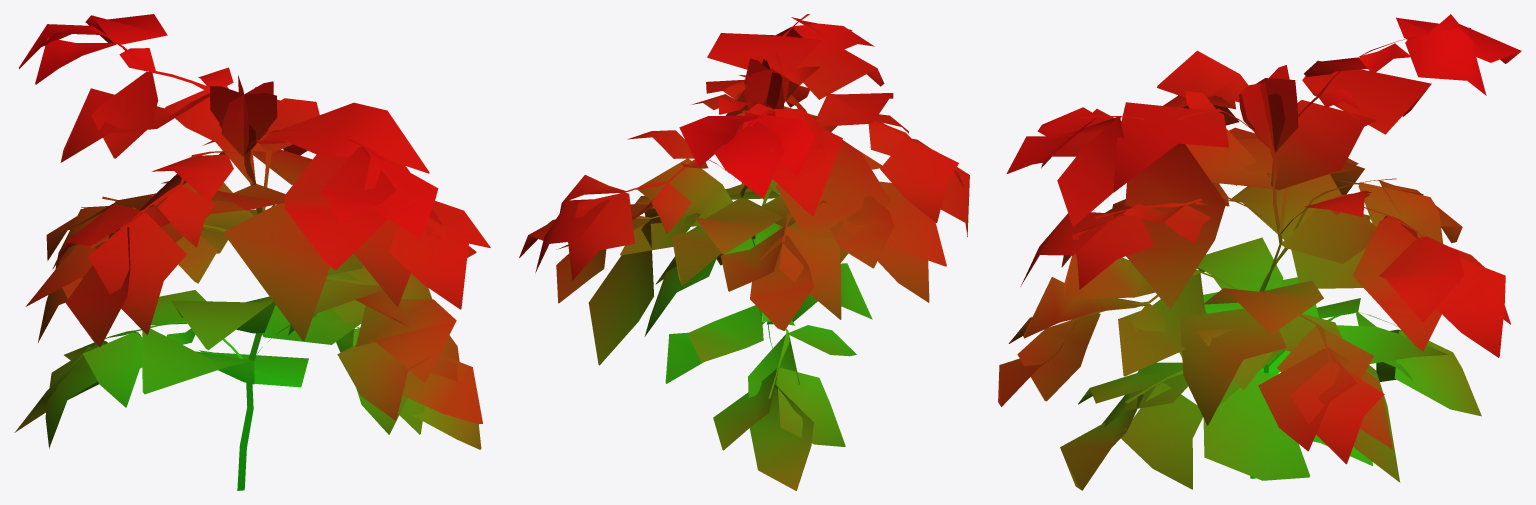
File: Var3_LOD5.fbx
3 views of the same model, side by side, from view 1: azimuth 30°, elevation 25°; view 2: azimuth 150°, elevation 25°; view 3: azimuth 270°, elevation 25° (orthographic). The views are drawn at different scales.
Visible parts, largest first — view 1: _nnya_Var3_LOD5; view 2: _nnya_Var3_LOD5; view 3: _nnya_Var3_LOD5.
Part boxes in pixels (x1,y1,x2,y2): _nnya_Var3_LOD5: [14, 14, 490, 490]; _nnya_Var3_LOD5: [519, 14, 969, 490]; _nnya_Var3_LOD5: [998, 14, 1521, 490].
Bounding box in the file's own units: 104 × 88.8 × 98.95.
